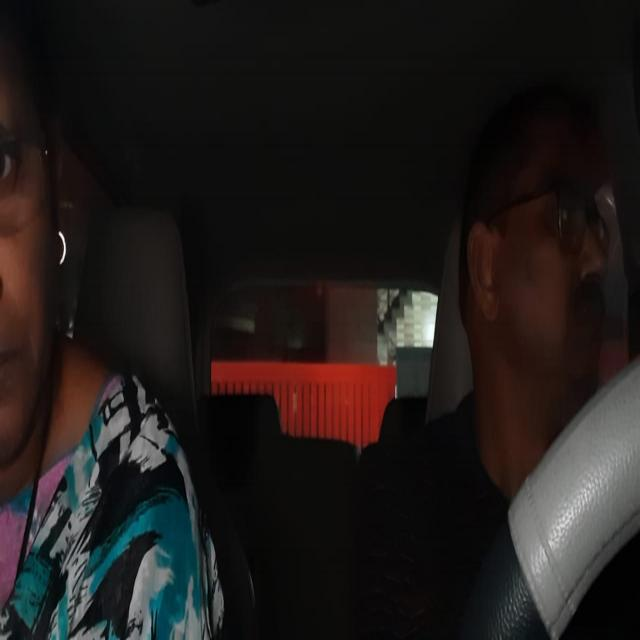LeftRight: (455, 82, 613, 418)
person: (0, 48, 75, 484)
